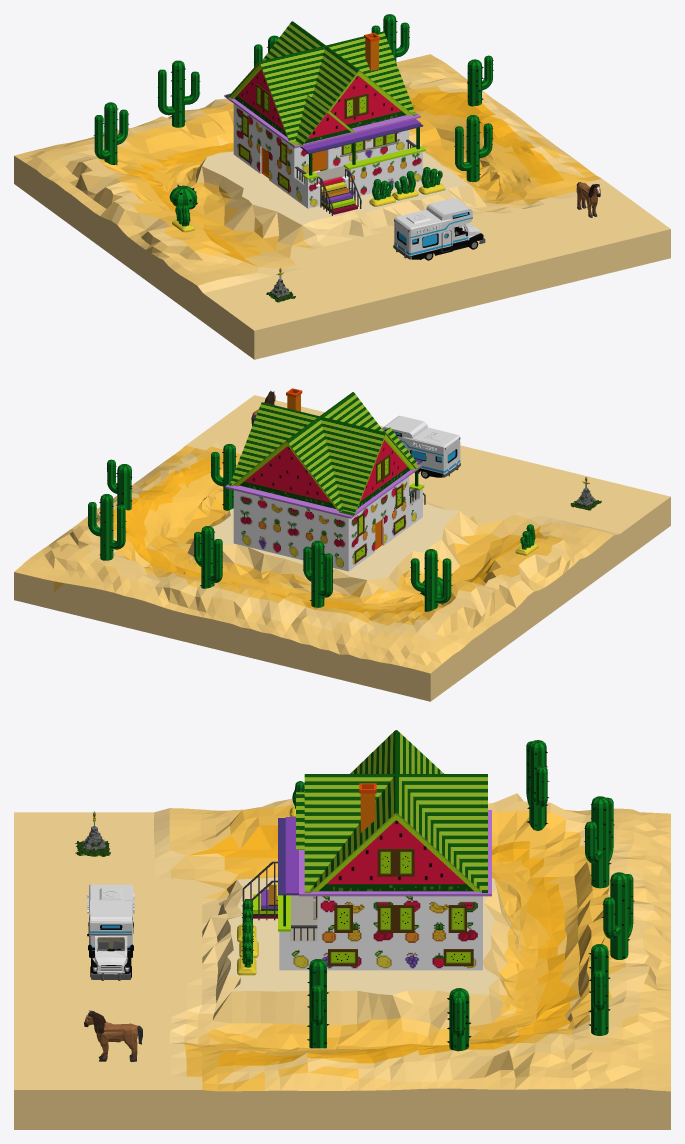
3 renders of one model, top to bottom at view 1: azimuth 30°, elevation 25°; view 2: azimuth 150°, elevation 25°; view 3: azimuth 270°, elevation 25°, orthographic. The views are drawn at different scales.
Visible parts, largest first — view 1: Cube.001, Cube.1063, VEHICLES_CAMPER, Cylinder.037, Cylinder.044, Cylinder.045, Cylinder.038, Cylinder.042, ANIMAL_CABALLO, Cylinder.039, Cylinder.041, Sphere.023 (+1 smaller); view 2: Cube.001, Cube.1063, VEHICLES_CAMPER, Cylinder.042, Cylinder.045, Cylinder.044, Cylinder.043, Cylinder.037, Cylinder.038; view 3: Cube.001, Cube.1063, VEHICLES_CAMPER, Cylinder.043, Cylinder.044, Cylinder.045, Cylinder.042, Cylinder.037, ANIMAL_CABALLO, Cylinder.038, OBJRANDOM_SWORD_IN_THE_STONE, Cylinder.041.
Part boxes in pixels (left/top/right/bottom): Cube.001: left=14, top=54, right=670, bottom=359; Cube.1063: left=224, top=21, right=425, bottom=215; VEHICLES_CAMPER: left=393, top=198, right=485, bottom=260; Cylinder.037: left=454, top=115, right=493, bottom=182; Cylinder.044: left=157, top=60, right=200, bottom=127; Cylinder.045: left=93, top=102, right=129, bottom=164; Cylinder.038: left=467, top=55, right=493, bottom=106; Cylinder.042: left=371, top=14, right=409, bottom=62; ANIMAL_CABALLO: left=576, top=182, right=600, bottom=217; Cylinder.039: left=369, top=179, right=395, bottom=206; Cylinder.041: left=418, top=167, right=445, bottom=194; Sphere.023: left=169, top=184, right=197, bottom=209; Cube.001: left=14, top=395, right=670, bottom=701; Cube.1063: left=225, top=388, right=425, bottom=571; VEHICLES_CAMPER: left=382, top=415, right=460, bottom=478; Cylinder.042: left=88, top=494, right=126, bottom=560; Cylinder.045: left=410, top=549, right=452, bottom=611; Cylinder.044: left=303, top=540, right=333, bottom=607; Cylinder.043: left=193, top=526, right=222, bottom=588; Cylinder.037: left=211, top=444, right=240, bottom=510; Cylinder.038: left=107, top=459, right=131, bottom=510; Cube.001: left=14, top=793, right=670, bottom=1129; Cube.1063: left=242, top=730, right=491, bottom=970; VEHICLES_CAMPER: left=87, top=884, right=134, bottom=980; Cylinder.043: left=602, top=872, right=634, bottom=959; Cylinder.044: left=584, top=796, right=614, bottom=888; Cylinder.045: left=526, top=740, right=549, bottom=830; Cylinder.042: left=588, top=944, right=610, bottom=1035; Cylinder.037: left=307, top=959, right=329, bottom=1048; ANIMAL_CABALLO: left=84, top=1010, right=142, bottom=1062; Cylinder.038: left=447, top=988, right=471, bottom=1051; OBJRANDOM_SWORD_IN_THE_STONE: left=75, top=811, right=110, bottom=856; Cylinder.041: left=237, top=932, right=256, bottom=975.
Bounding box in the file's own units: 4002 × 1643 × 4001.
38 materials, 4 textured.
